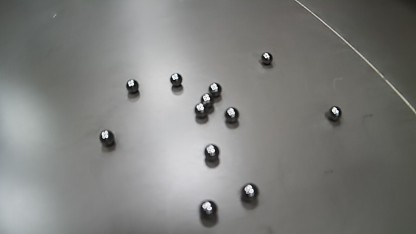ironball: (241, 182, 259, 201), (99, 129, 115, 147), (200, 200, 217, 216), (224, 106, 239, 123), (204, 144, 219, 161), (327, 105, 341, 121), (194, 102, 207, 118), (208, 82, 221, 97), (201, 92, 213, 108), (169, 73, 182, 87), (126, 79, 139, 93), (260, 52, 273, 65)
